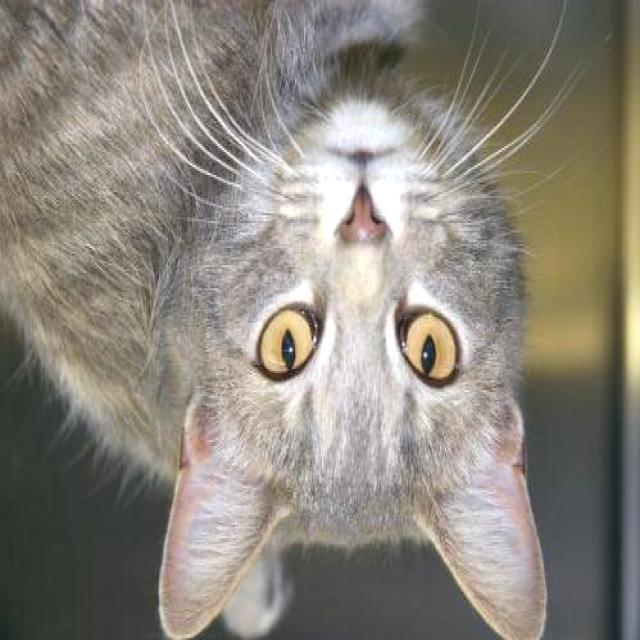Kucing: (23, 10, 614, 640)
